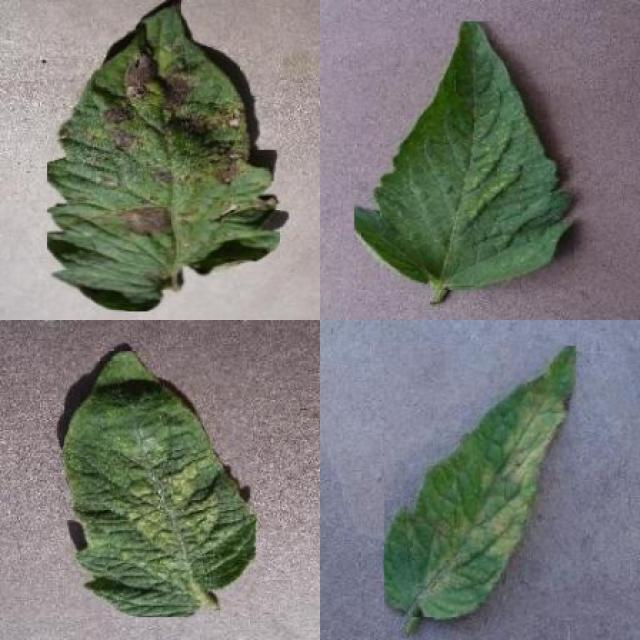Early Blight: (47, 0, 280, 311)
Leaf Mold: (385, 346, 576, 617)
Spider Mites: (355, 22, 574, 291), (64, 350, 256, 617)
